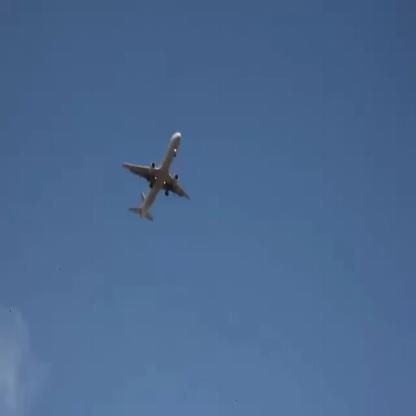CIV_Plane: (121, 133, 190, 220)
